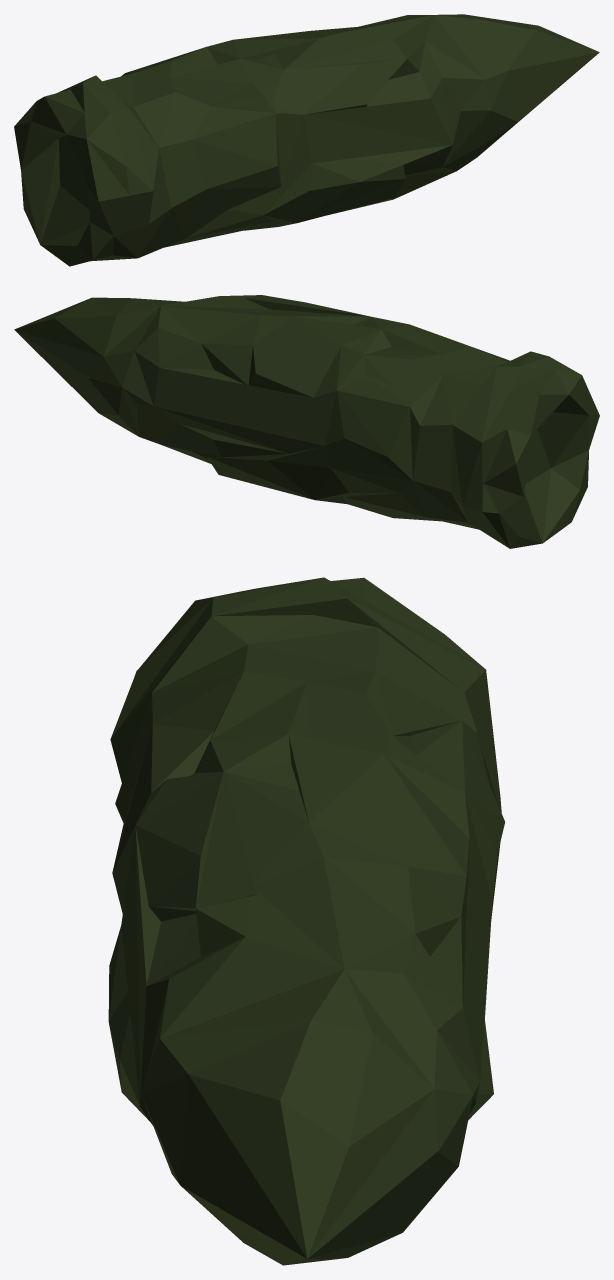
File: monster_bullet.glb
3 views of the same model, one above another, from view 1: azimuth 30°, elevation 25°; view 2: azimuth 150°, elevation 25°; view 3: azimuth 270°, elevation 25° (orthographic). The views are drawn at different scales.
Parts seen in each view (by area): view 1: tripo_node_44081d99-b89f-4d28-b8dd-f74ad29b2fc4; view 2: tripo_node_44081d99-b89f-4d28-b8dd-f74ad29b2fc4; view 3: tripo_node_44081d99-b89f-4d28-b8dd-f74ad29b2fc4.
Boxes of the visible parts, <box> form: tripo_node_44081d99-b89f-4d28-b8dd-f74ad29b2fc4: <box>14,14,599,266</box>; tripo_node_44081d99-b89f-4d28-b8dd-f74ad29b2fc4: <box>14,295,599,548</box>; tripo_node_44081d99-b89f-4d28-b8dd-f74ad29b2fc4: <box>108,577,504,1265</box>.
Size of the model in its own units: 0.9761 by 0.3029 by 0.3083.
